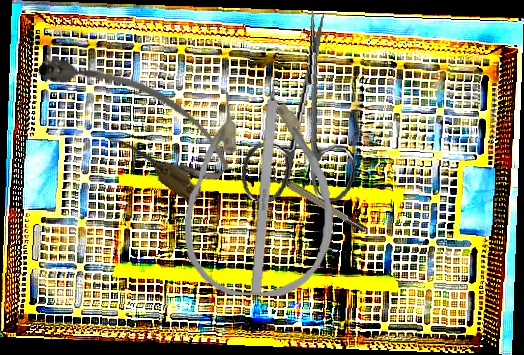Cannula: (28, 24, 240, 209), (183, 91, 336, 297)
Fixation Ring: (265, 165, 368, 239)
Hook Surgical: (250, 57, 282, 294)
Iris Scissors: (239, 4, 372, 211)
